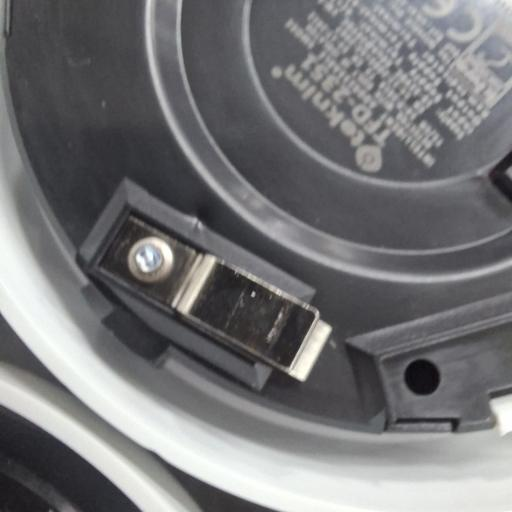yayli: (91, 208, 329, 383)
